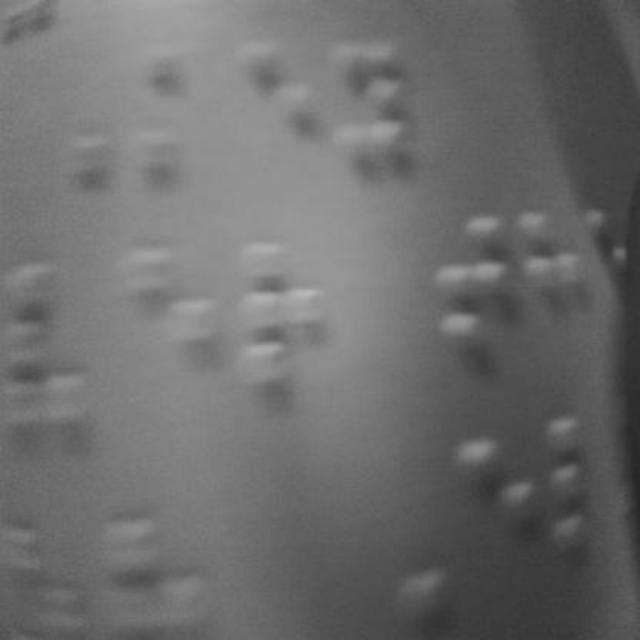braiile: (240, 236, 332, 416), (348, 225, 436, 398), (328, 34, 418, 182), (522, 206, 584, 350)
